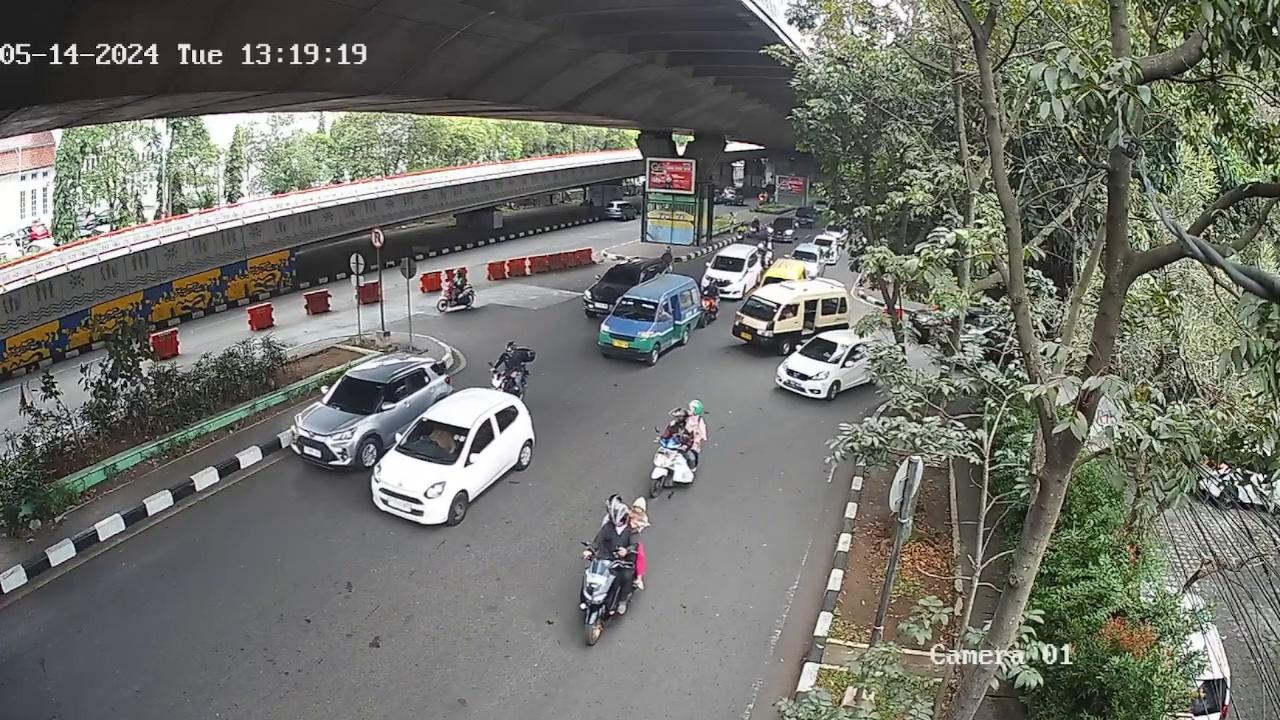tidak-pakai: (419, 423, 455, 454)
windshield: (395, 416, 470, 460), (315, 373, 389, 416)
